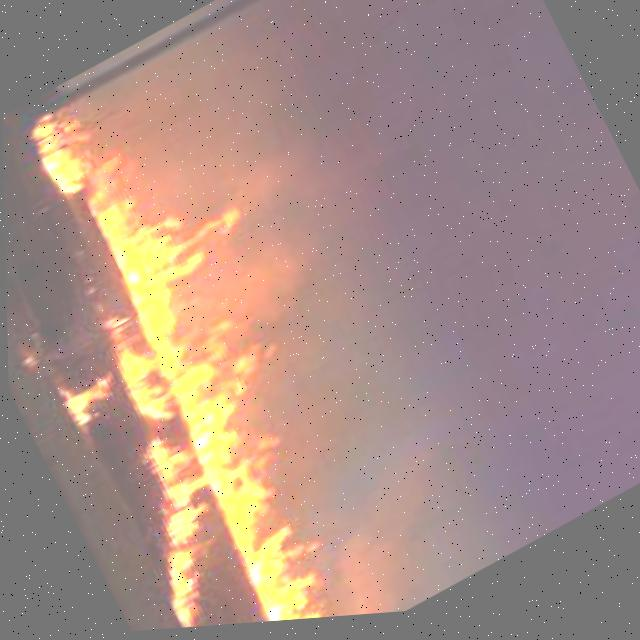Fire: (1, 42, 441, 640)
